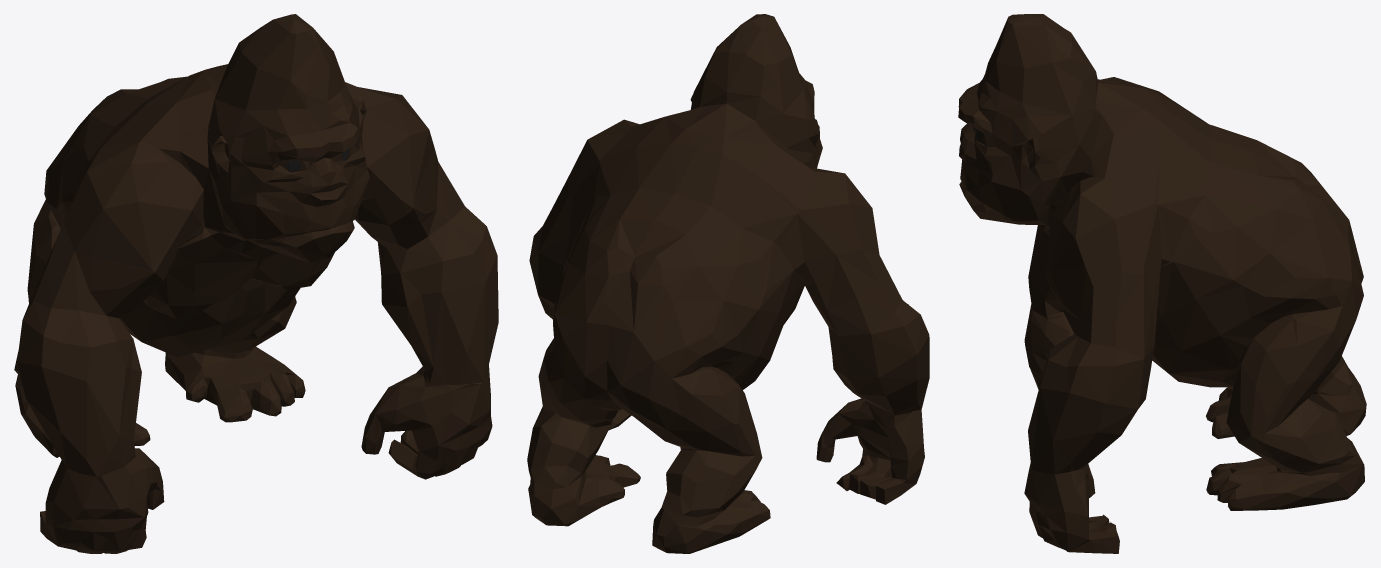
The model's file is gorila.glb.
The picture shows the model from 3 angles, left to right: view 1: azimuth 30°, elevation 25°; view 2: azimuth 150°, elevation 25°; view 3: azimuth 270°, elevation 25°; orthographic projection. The views are drawn at different scales.
Parts seen in each view (by area): view 1: Gorila; view 2: Gorila; view 3: Gorila.
Part boxes in pixels (<box>): Gorila: <box>14,14,498,553</box>; Gorila: <box>527,14,929,553</box>; Gorila: <box>958,14,1366,553</box>.
Size of the model in its own units: 1.92 by 2 by 1.62.
Materials: 1 (1 with a texture image).
